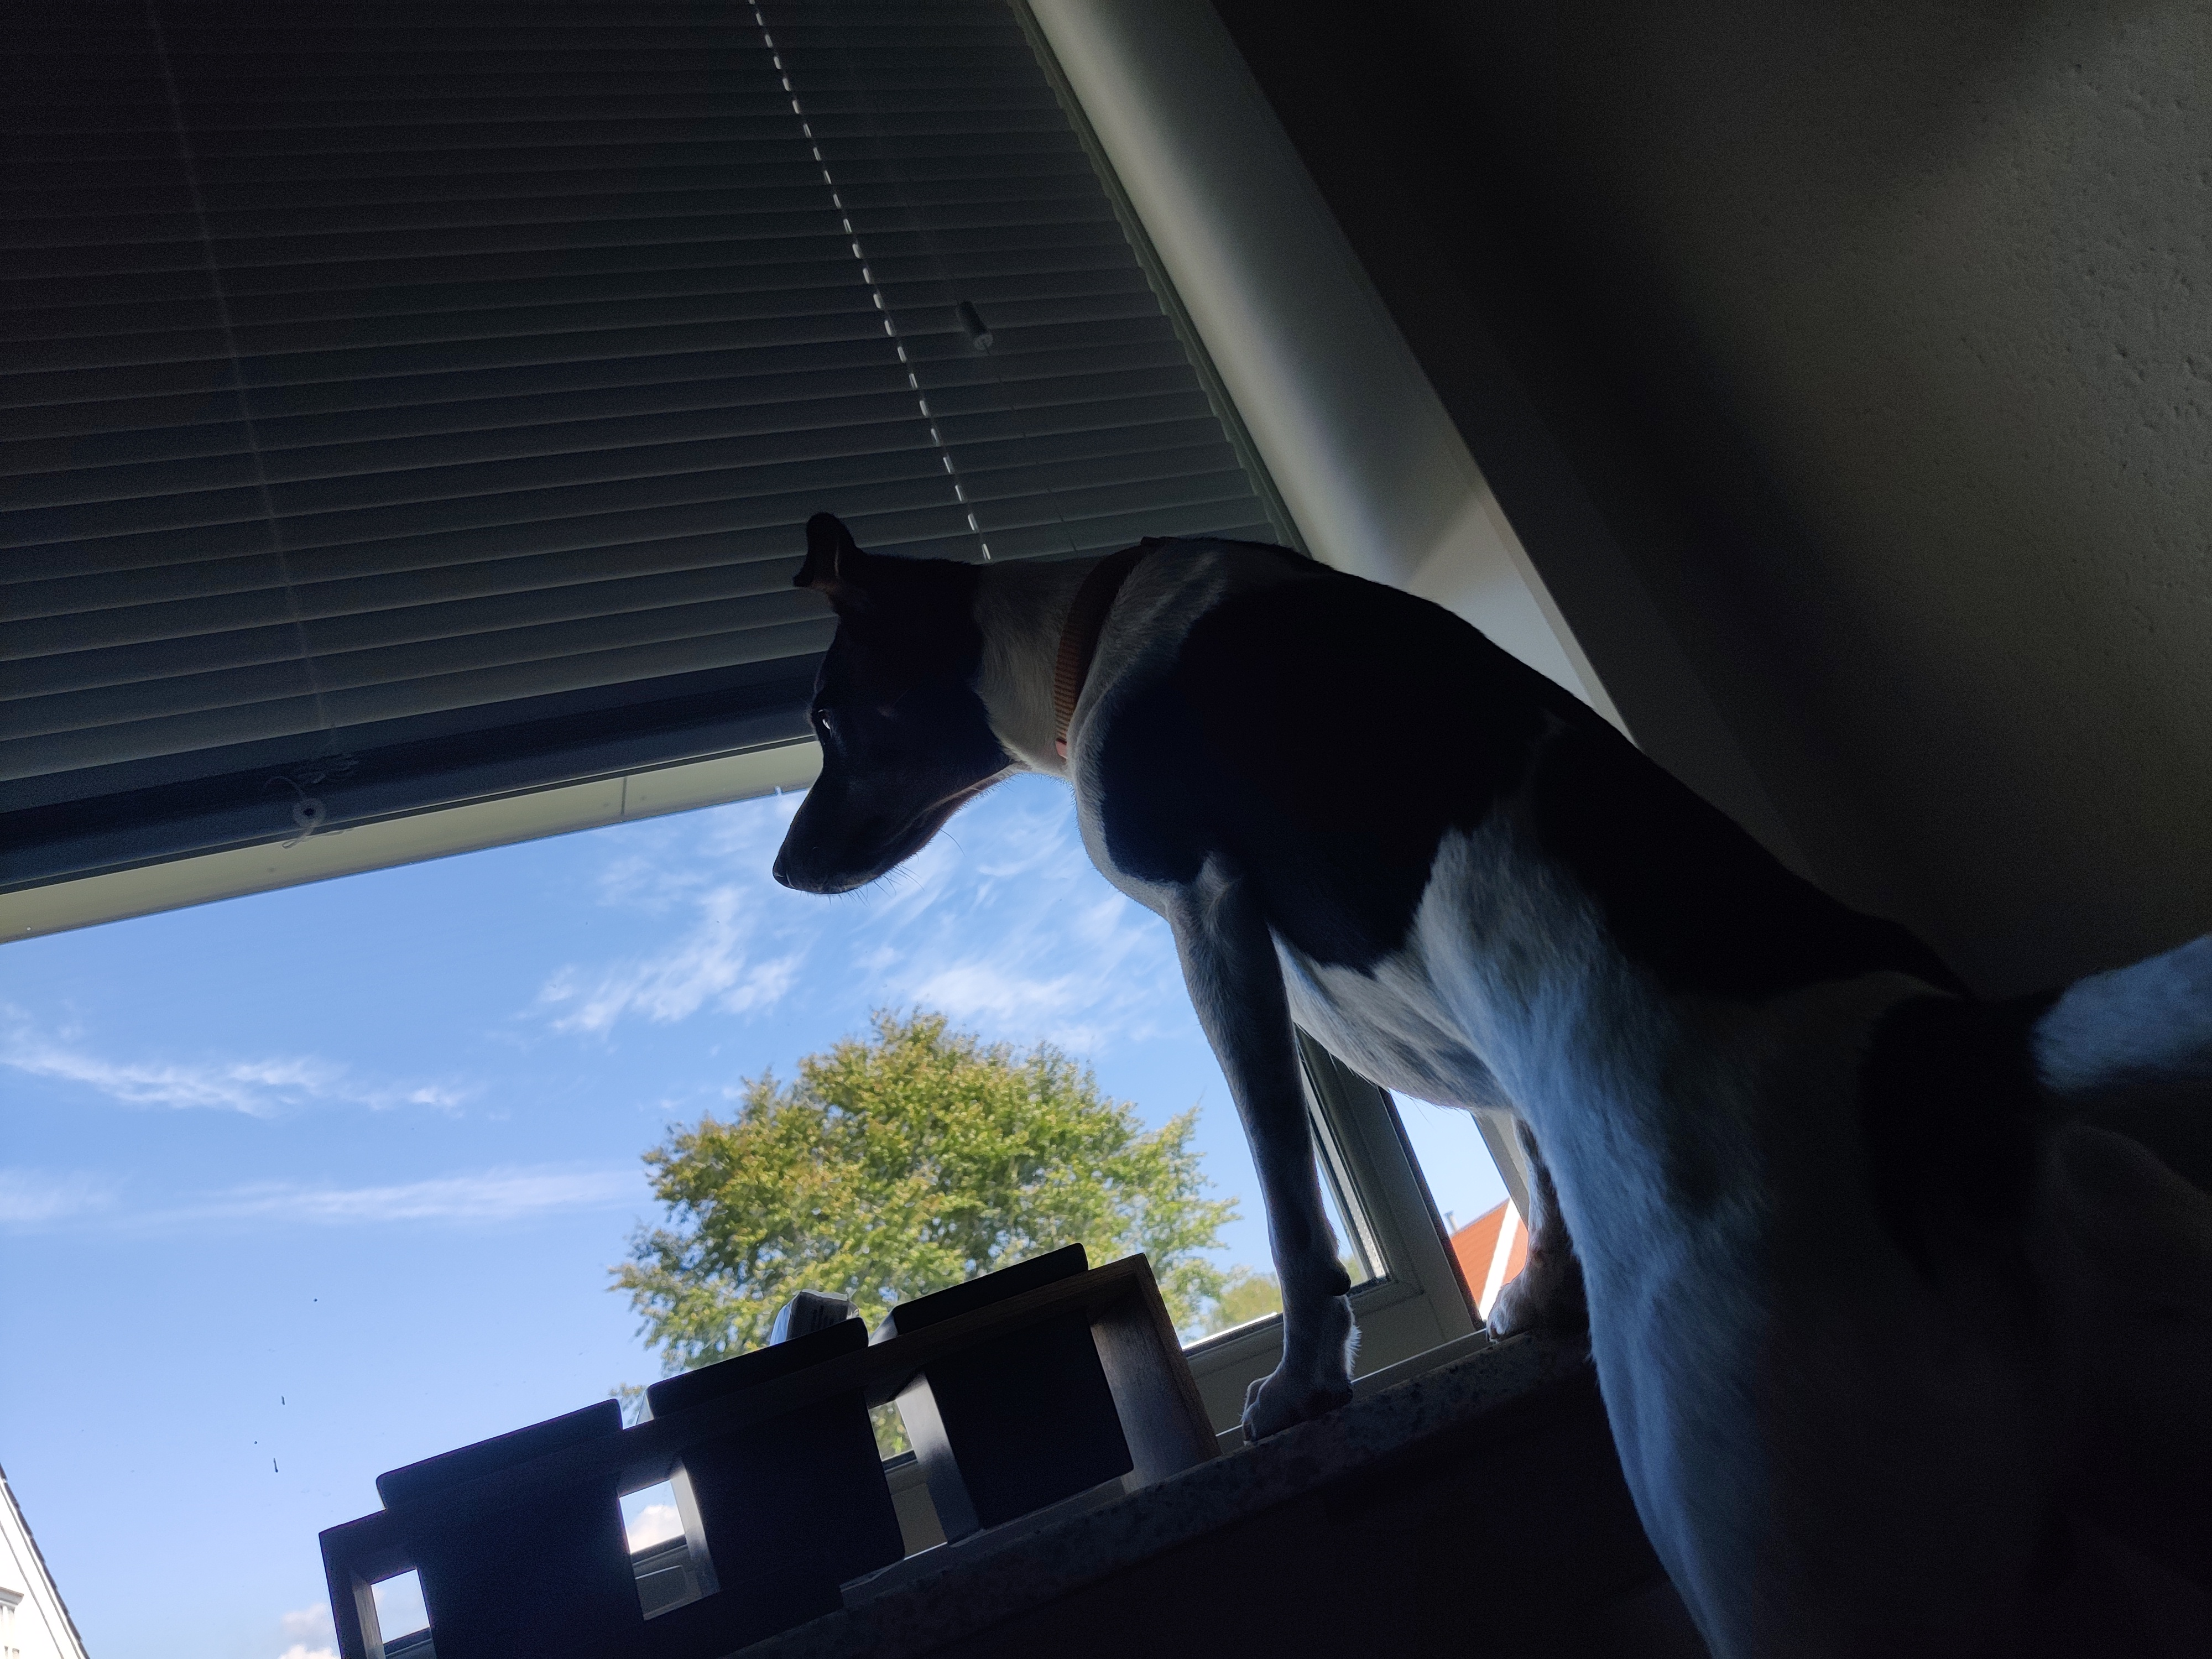Dog: (763, 502, 2212, 1659)
